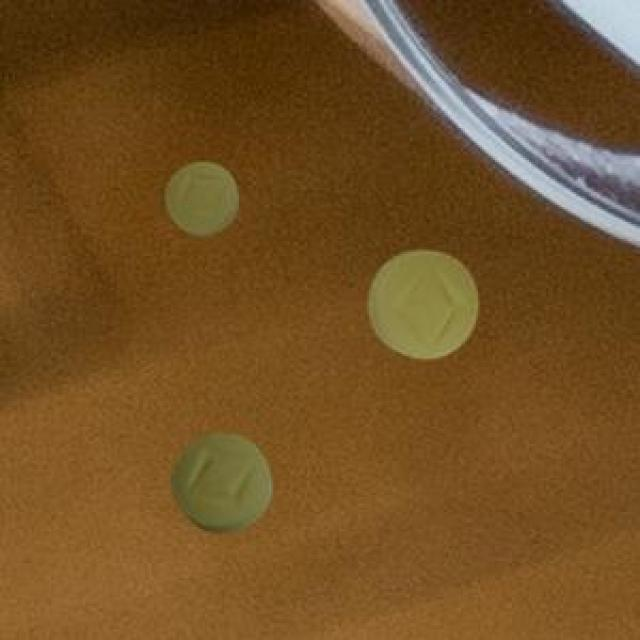Decolgen: (345, 224, 502, 376), (154, 423, 294, 547), (150, 151, 256, 244)
